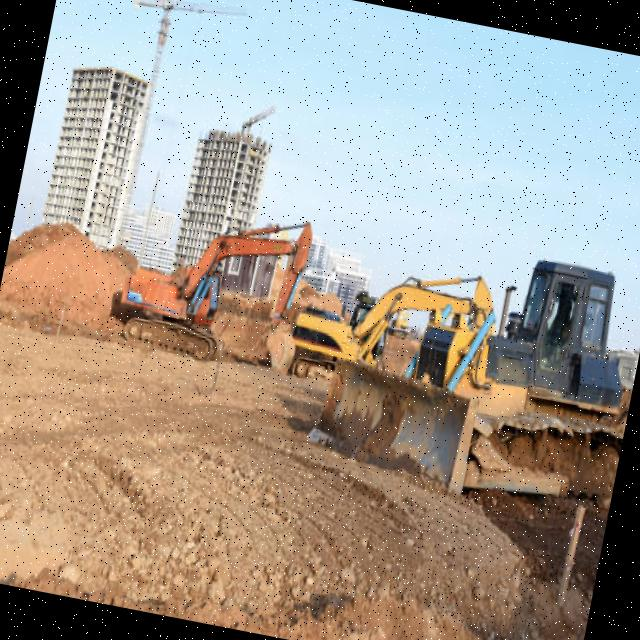Bulldozer: (303, 209, 640, 527)
Excavator: (97, 184, 319, 386)
